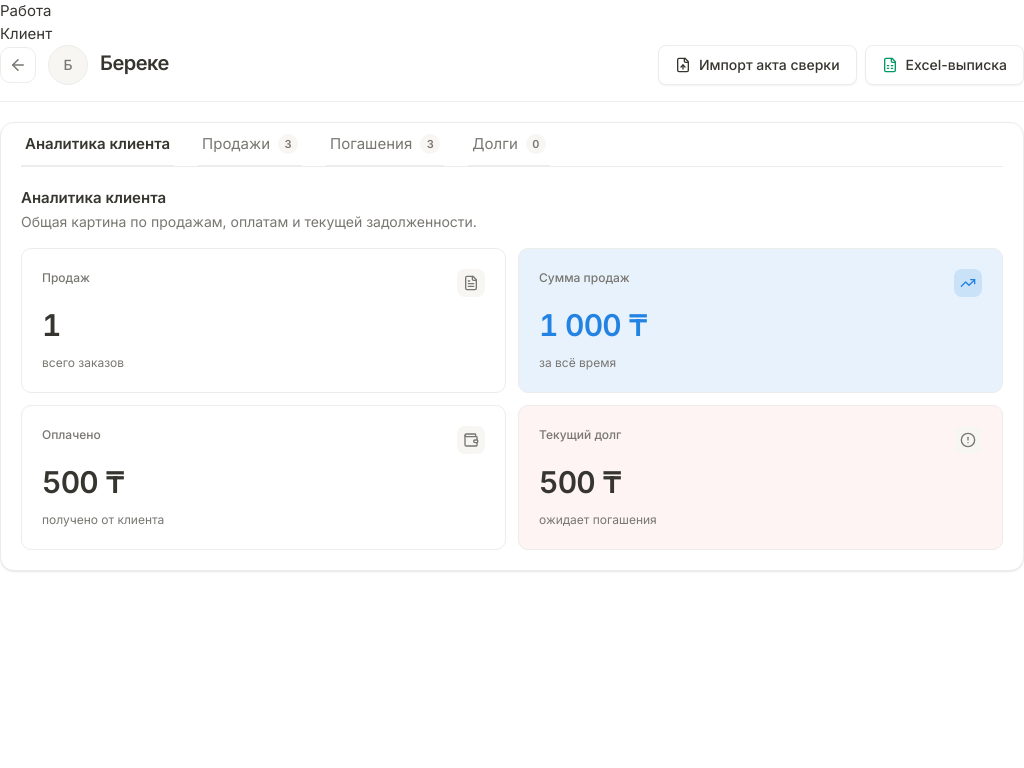
it: keeps common filters across tabs and resets the tab-specific ones
Expected: the tab "Продажи 3" is shown, 198,123 -> 302,167
Step 1. Click the tab "Погашения 3" → (385, 145), box 326,123 -> 444,167
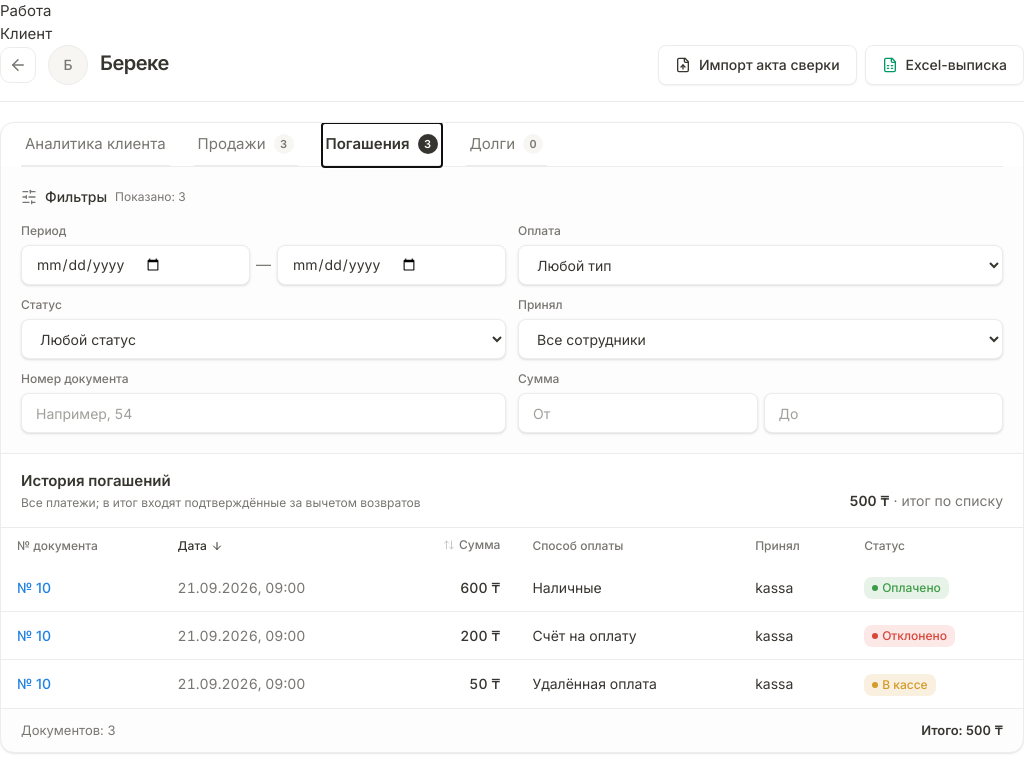
Step 2. Type "2026-09-01" into the date field named "Период с" → (136, 265), box 21,245 -> 250,285
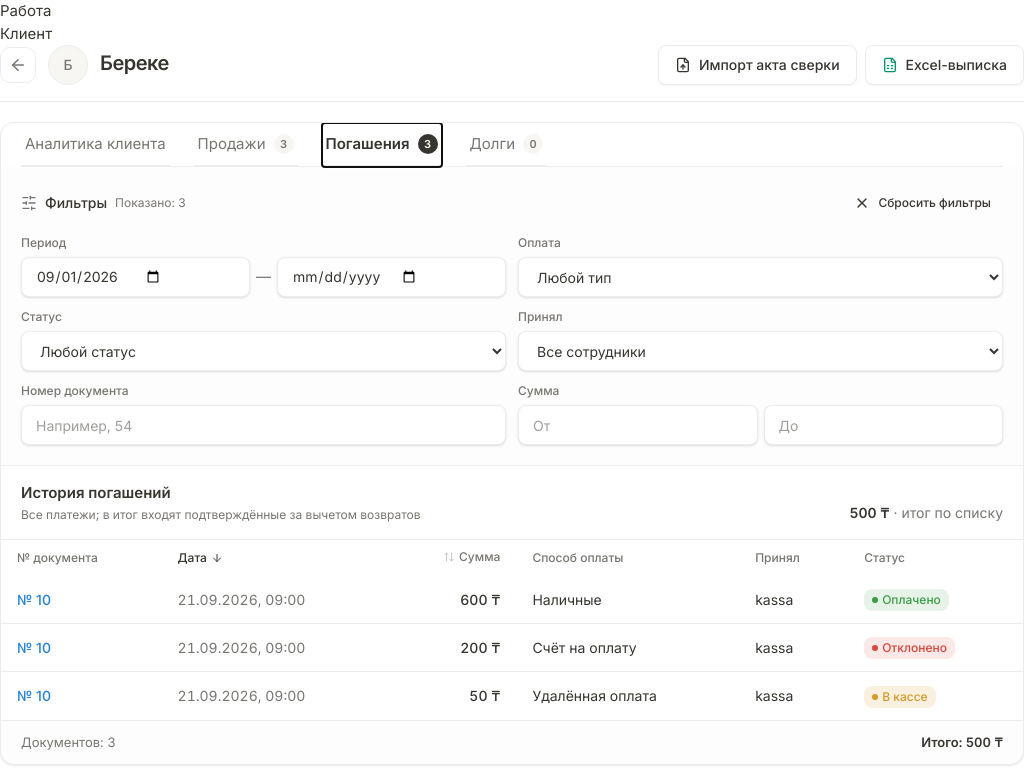
Step 3. Select "Наличные" in the dropdown labelled "Оплата" → (760, 277), box 518,257 -> 1003,297
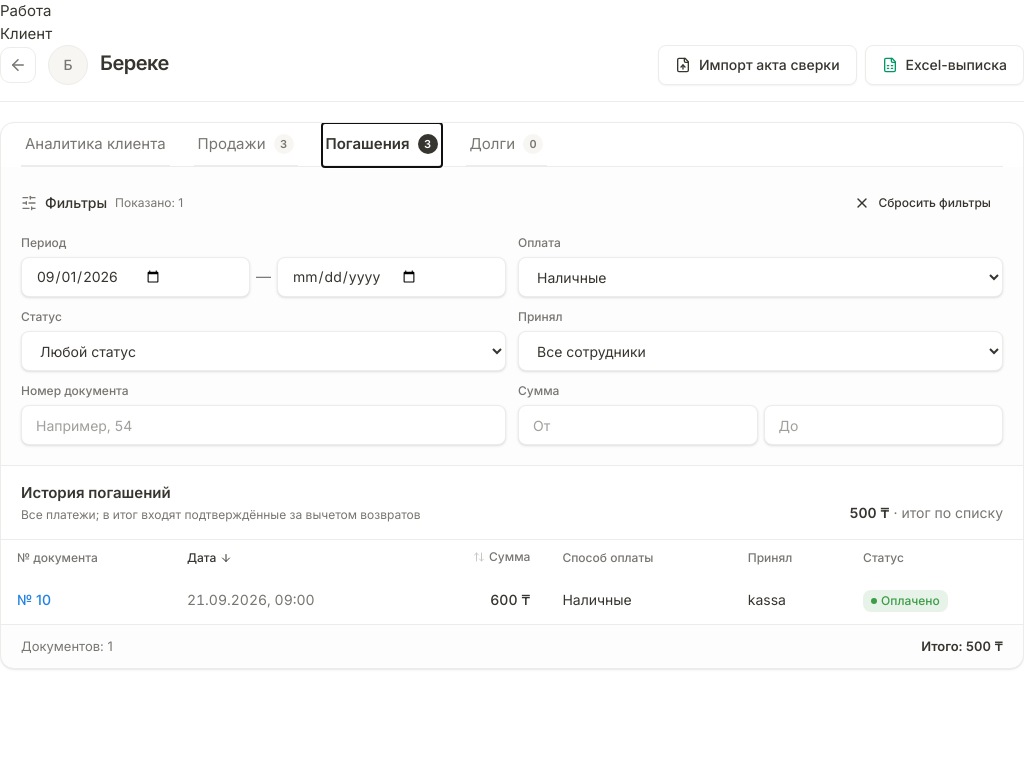
Step 4. Click the tab "Продажи 3" → (246, 145), box 194,123 -> 298,167
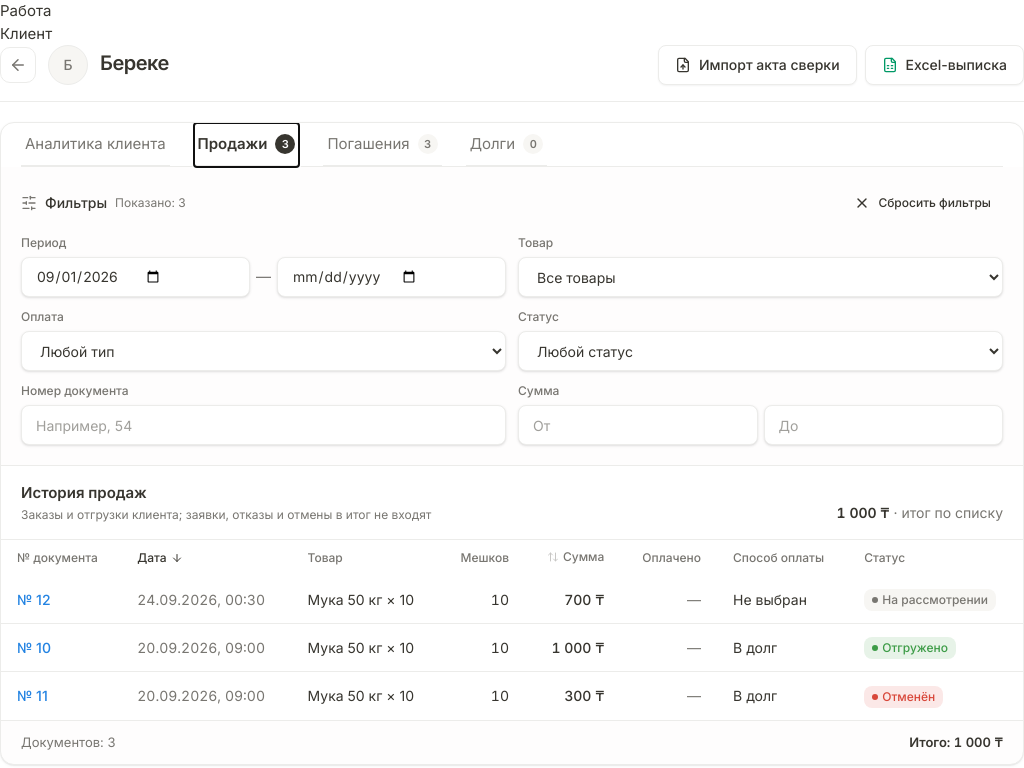
Step 5. Click the button "Сбросить фильтры" → (923, 203), box 842,187 -> 1003,219
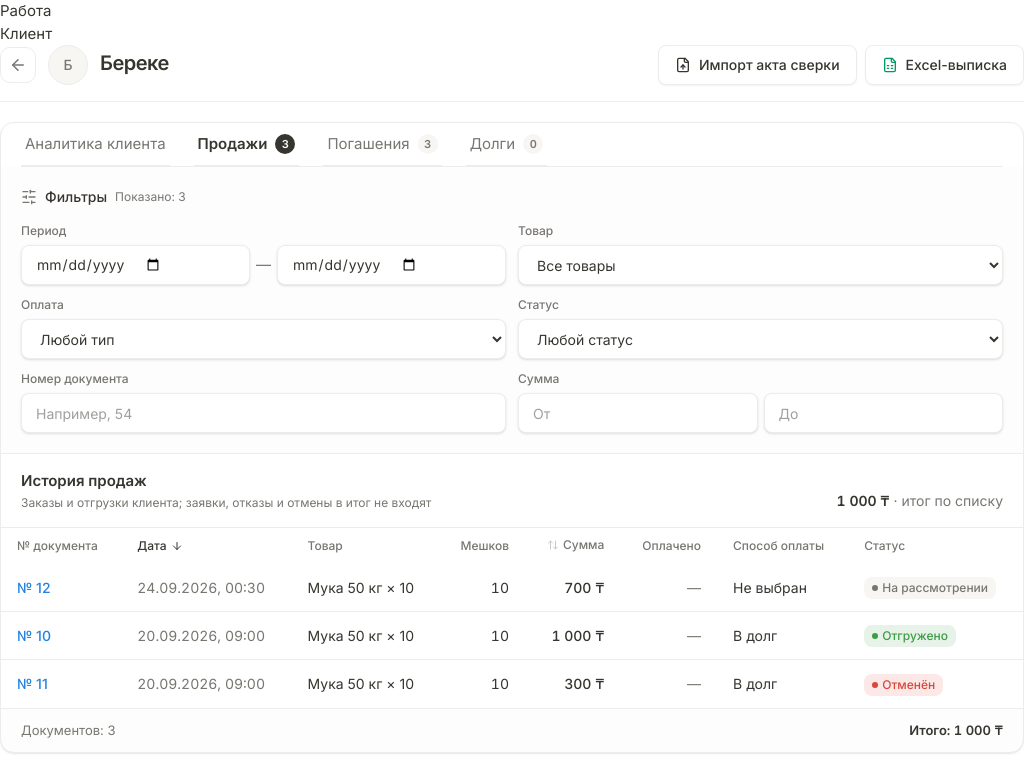
Expected: the date field named "Период с" is empty, 21,245 -> 250,285
Expected: the button "Сбросить фильтры" is gone
